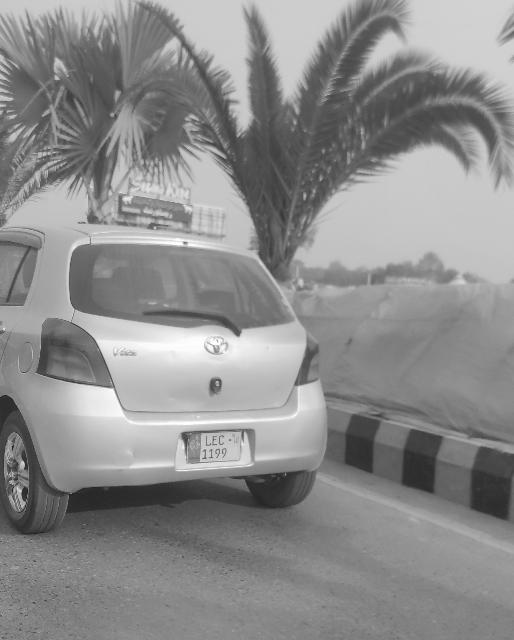Number: (204, 436, 230, 460)
